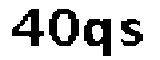0: (47, 4, 81, 52)
4: (9, 6, 48, 52)
q: (82, 13, 118, 60)
s: (117, 15, 144, 50)
